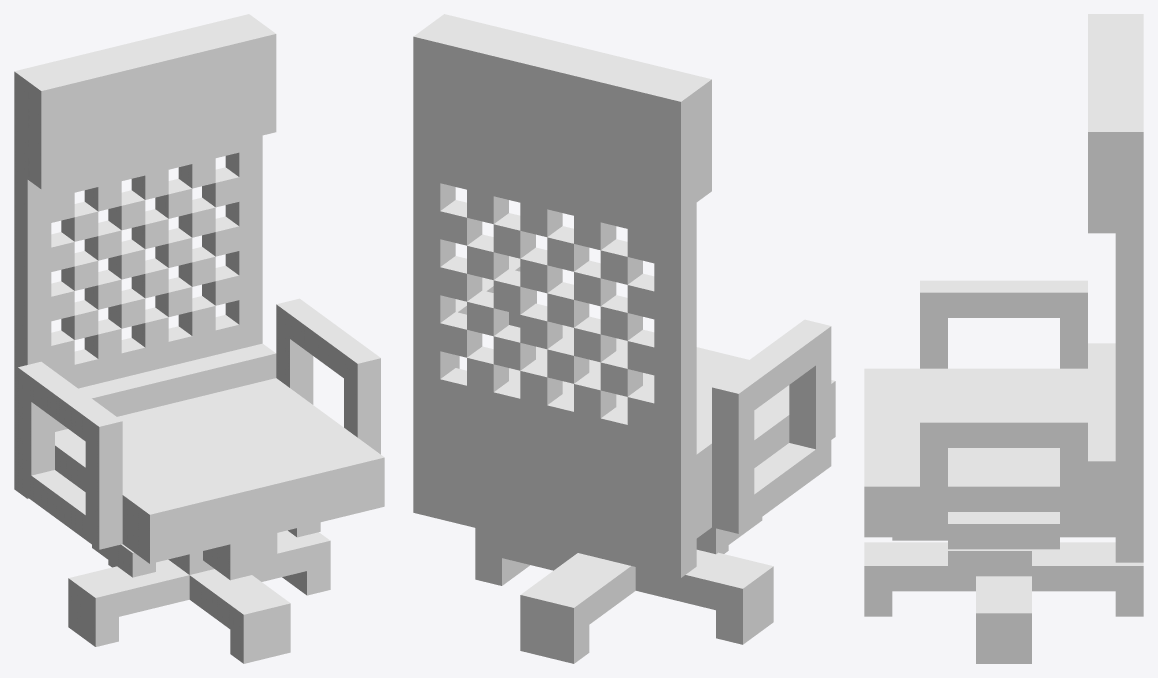
File: Chair.gltf
3 views of the same model, side by side, from view 1: azimuth 30°, elevation 25°; view 2: azimuth 150°, elevation 25°; view 3: azimuth 270°, elevation 25° (orthographic). The views are drawn at different scales.
Size of the model in its own units: 12 by 21 by 10.
Materials: 1 (1 with a texture image).
